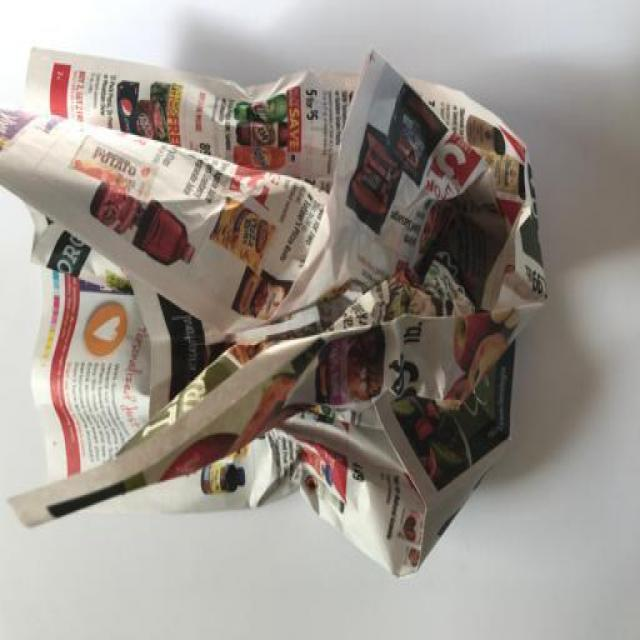paper: (2, 46, 533, 563)
